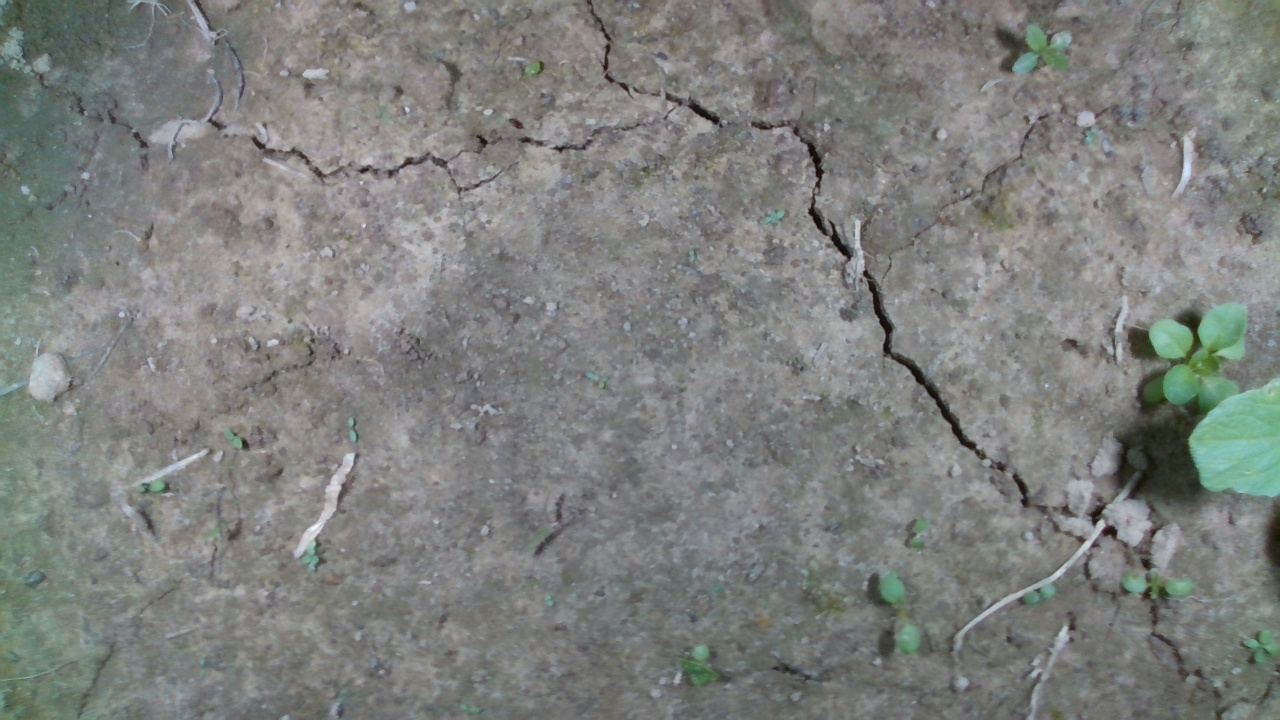weed: (875, 569, 923, 654), (1009, 19, 1072, 75), (1119, 565, 1193, 604), (1240, 627, 1279, 665), (1020, 583, 1057, 605)
